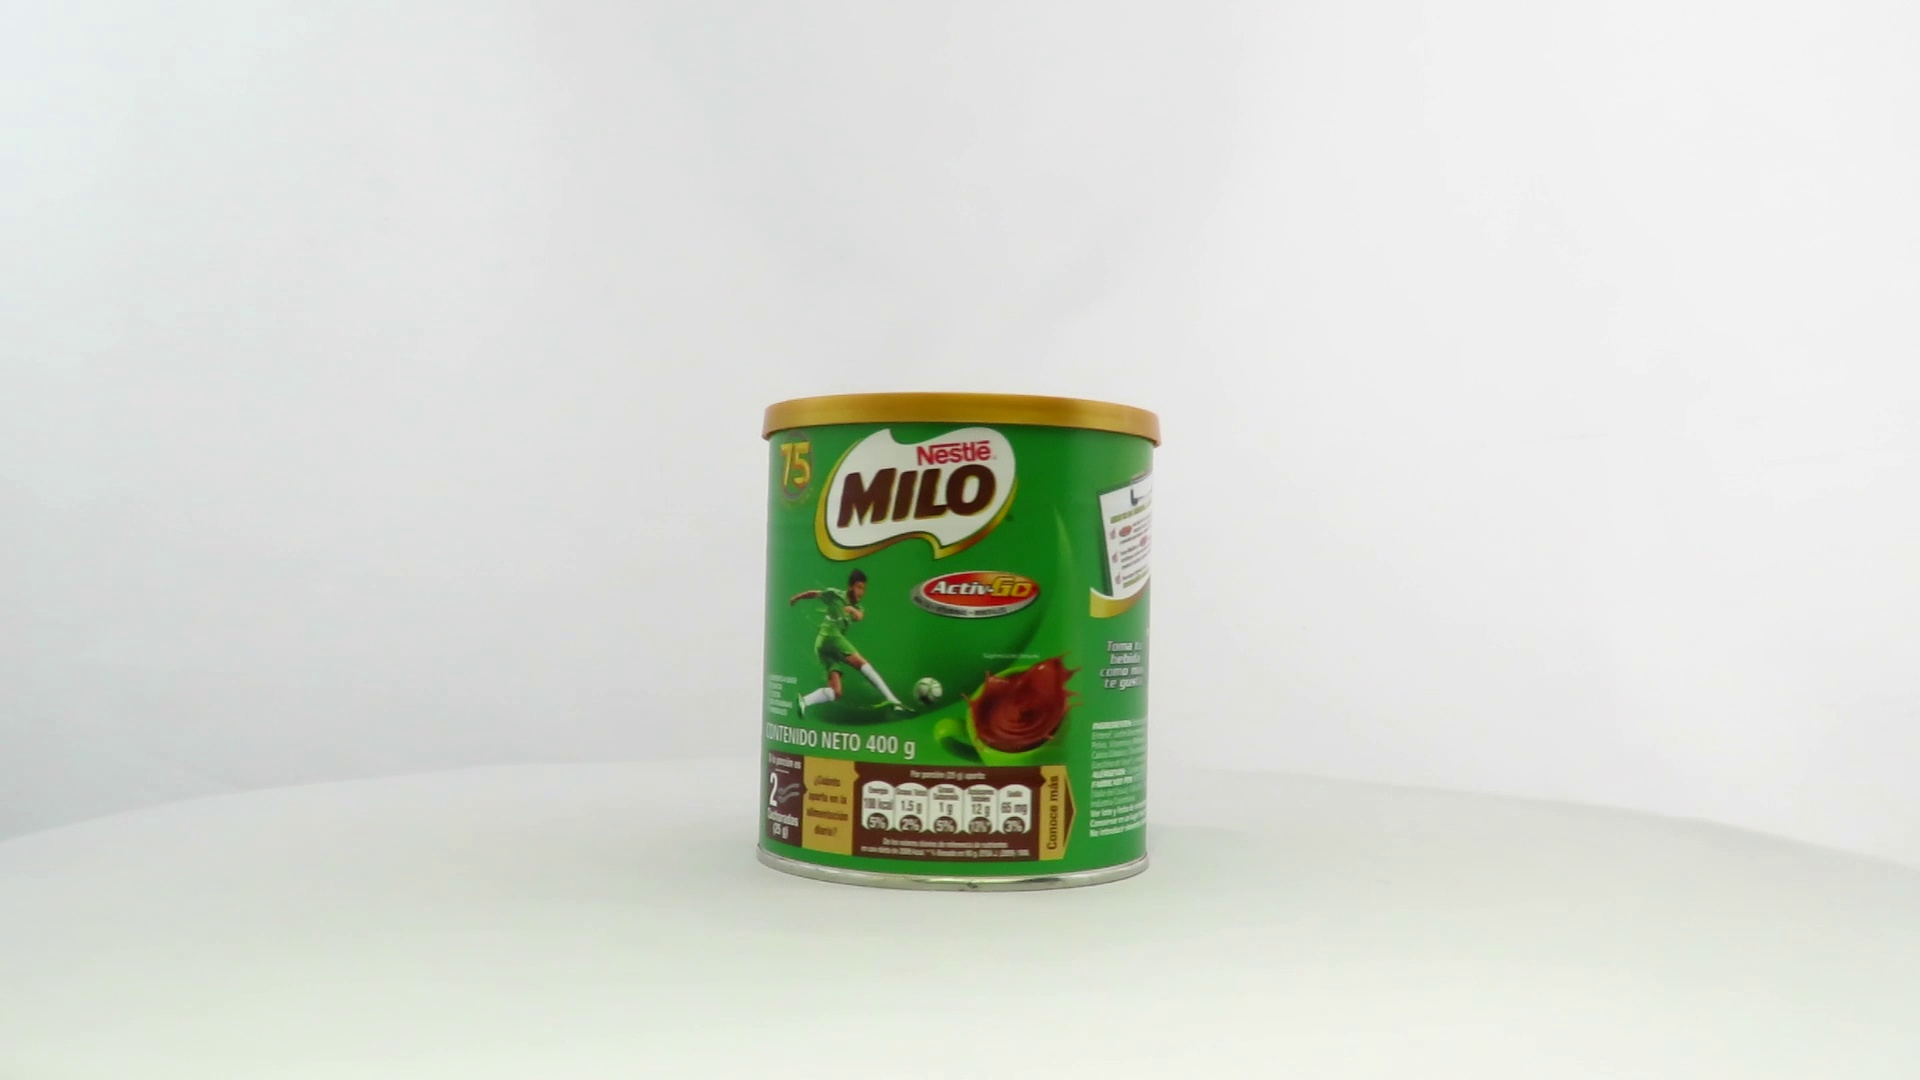COL0170203LAT40000: (752, 386, 1168, 899)
